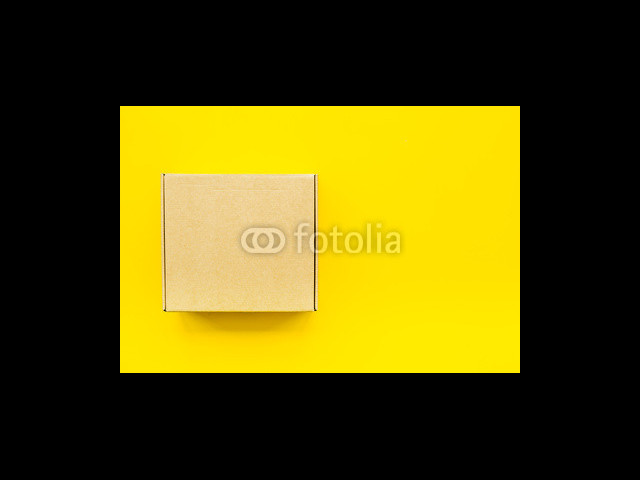cardboard: (160, 174, 316, 310)
